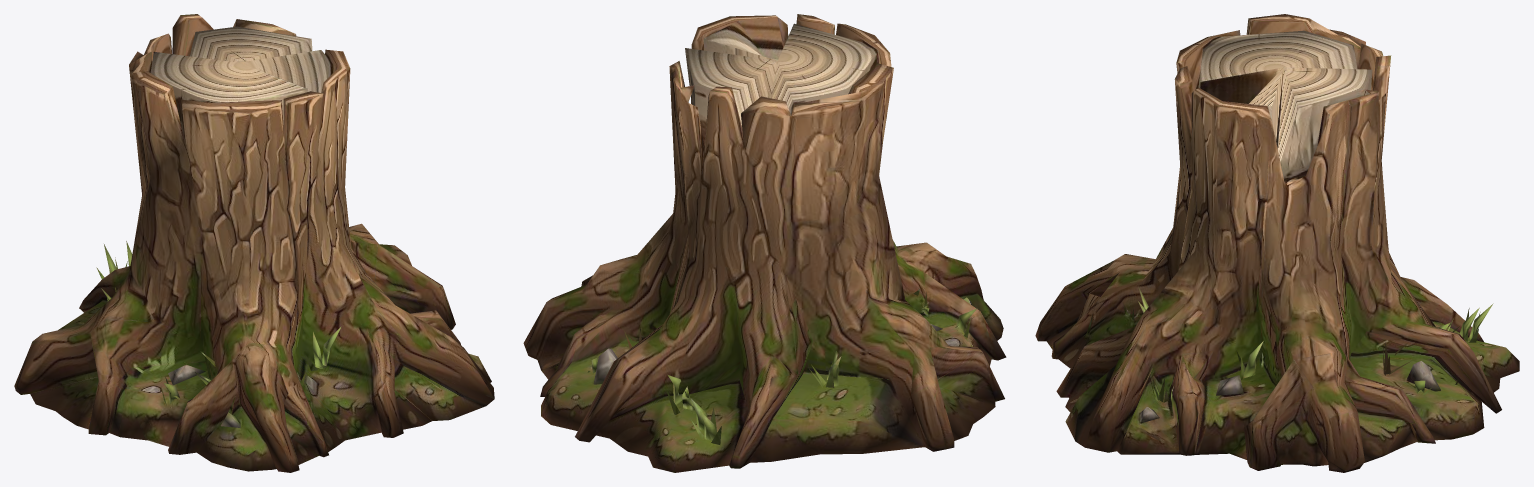
File: stump.glb
The picture shows the model from 3 angles, left to right: view 1: azimuth 30°, elevation 25°; view 2: azimuth 150°, elevation 25°; view 3: azimuth 270°, elevation 25°; orthographic projection. The views are drawn at different scales.
Visible parts, largest first — view 1: stump; view 2: stump; view 3: stump.
Part boxes in pixels (x1,y1,x2,y2): stump: (14, 14, 494, 472); stump: (523, 14, 1006, 472); stump: (1035, 14, 1519, 472).
Bounding box in the file's own units: 0.429 × 0.315 × 0.44.
1 material, 1 textured.
